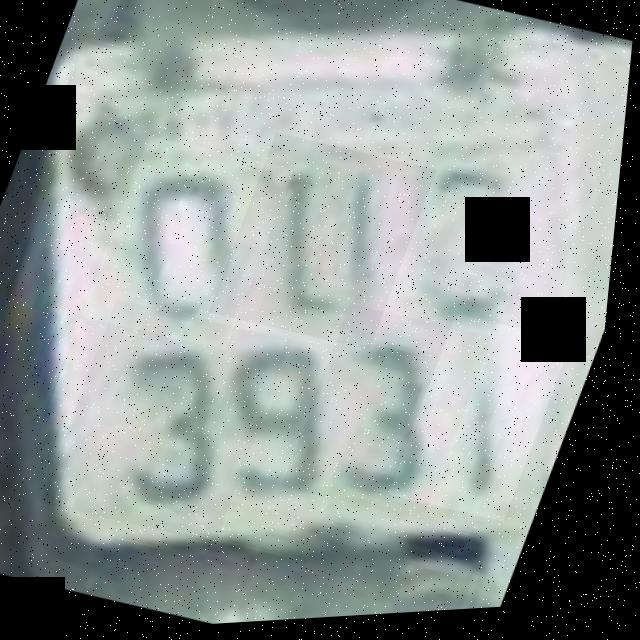1: (395, 314, 582, 534)
3: (46, 292, 302, 554), (287, 301, 502, 533)
9: (178, 302, 400, 533)
O: (83, 131, 300, 360)
U: (211, 128, 444, 362)
